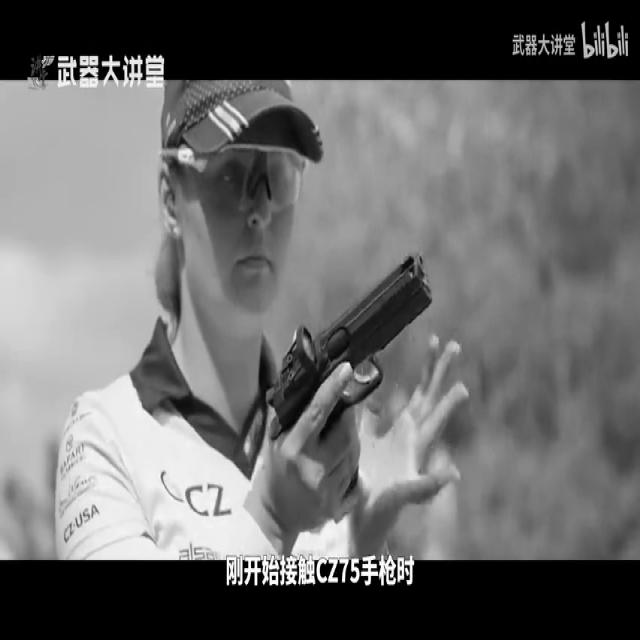Hand-Gun: (232, 226, 477, 510)
